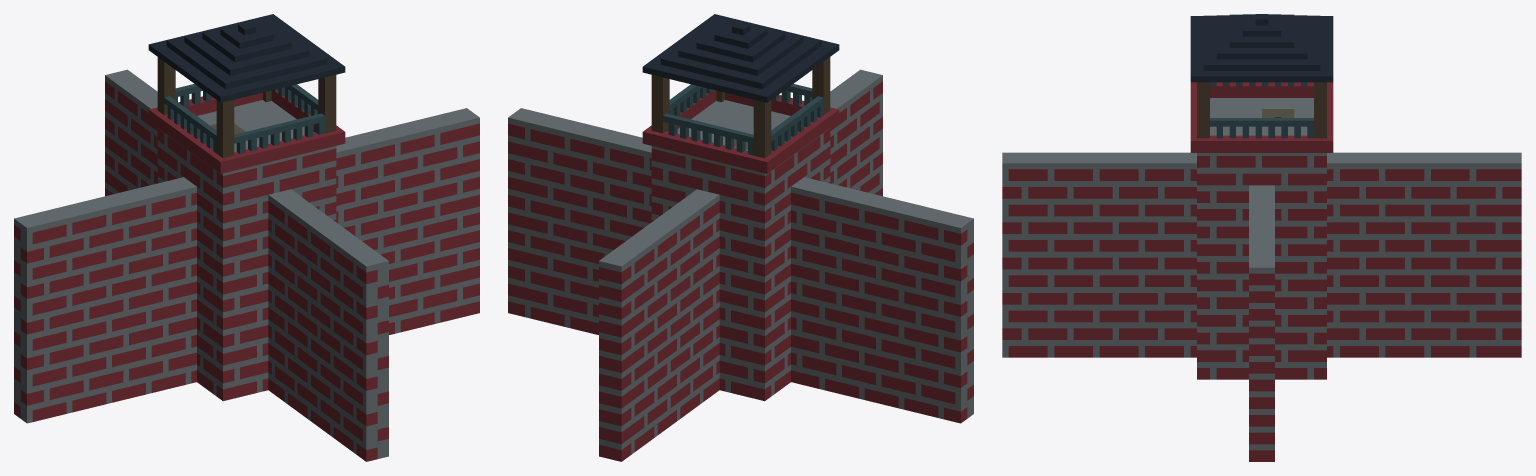
File: wall2_cross.obj
3 renders of one model, left to right at view 1: azimuth 30°, elevation 25°; view 2: azimuth 150°, elevation 25°; view 3: azimuth 270°, elevation 25°, orthographic.
Bounding box in the file's own units: 8 × 5.7 × 8.
Materials: 1 (1 with a texture image).
